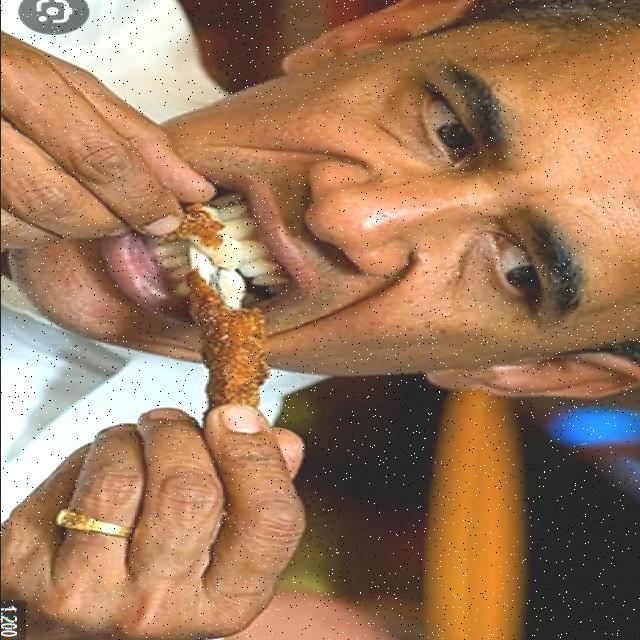face_no_mask: (58, 13, 640, 397)
